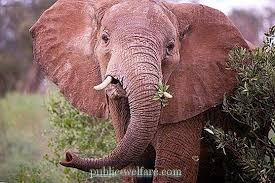Elephant: (25, 1, 254, 182)
